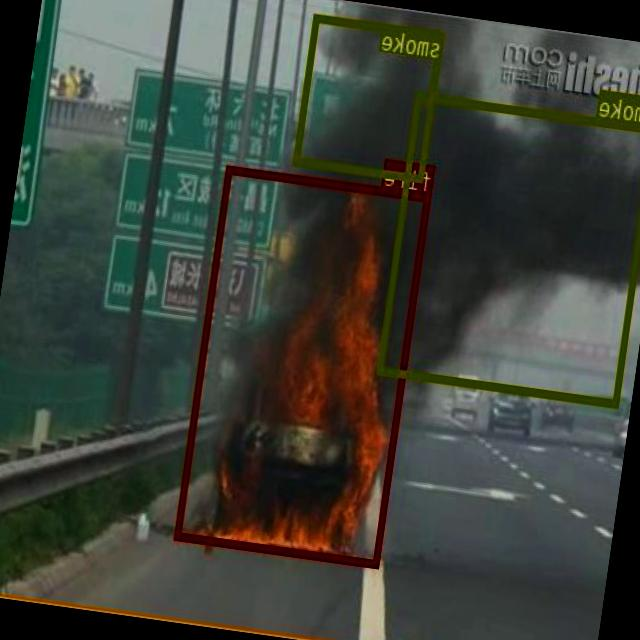fire: (176, 165, 433, 568)
smoke: (379, 92, 640, 406), (294, 12, 445, 181)
